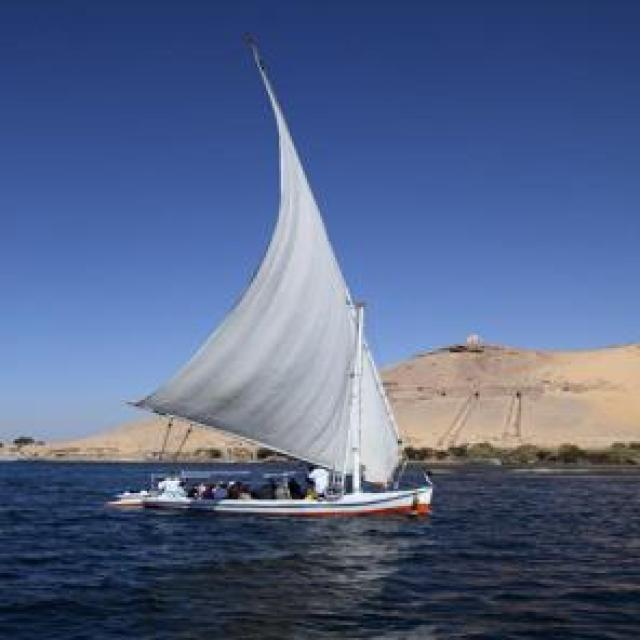sailboat: (100, 27, 444, 510)
